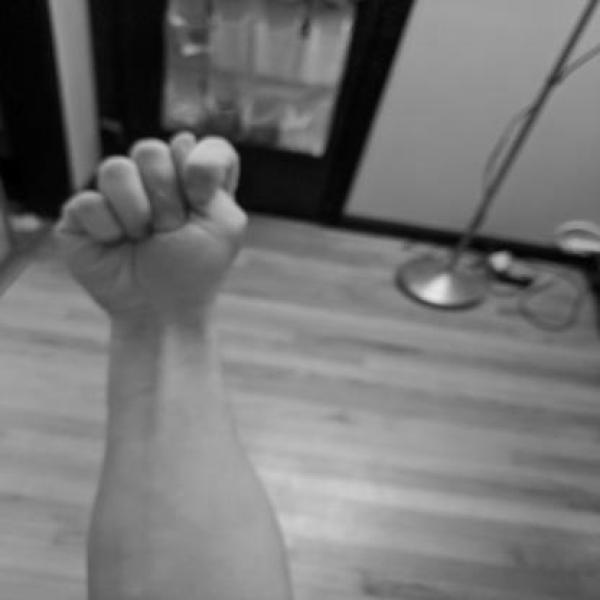T: (44, 126, 259, 325)
